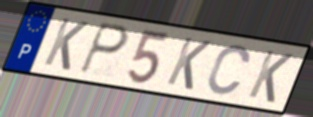5: (125, 27, 174, 86)
C: (205, 43, 253, 97)
K: (163, 35, 214, 93), (245, 48, 296, 106), (41, 15, 91, 74)
P: (77, 20, 131, 76)
